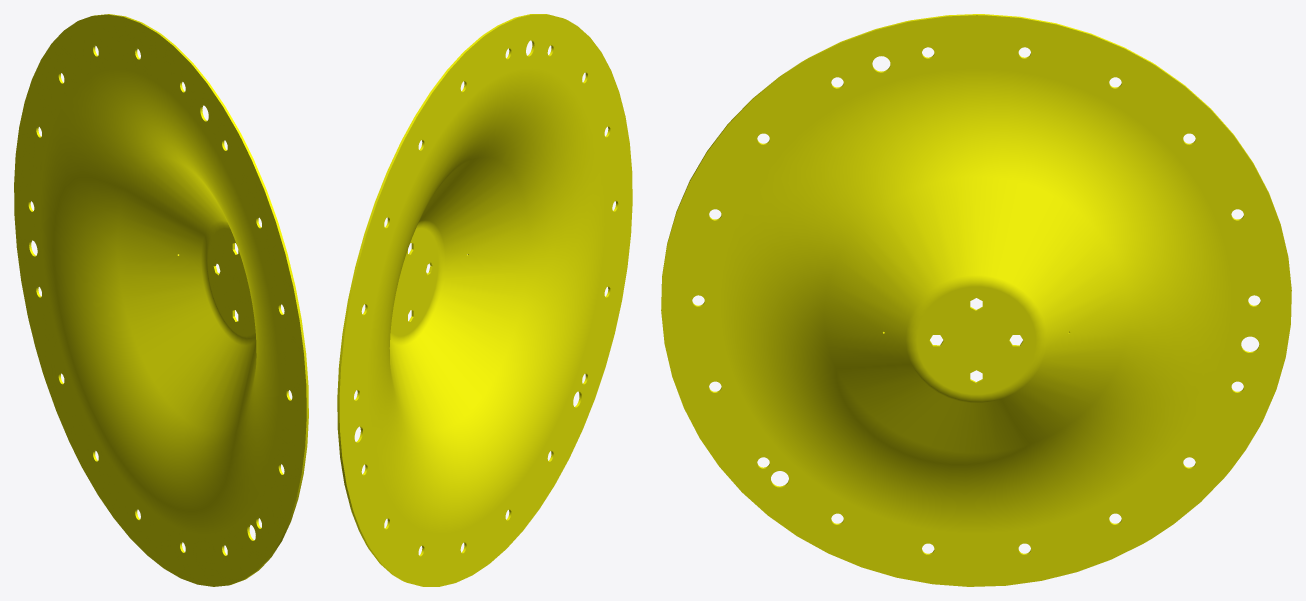
3 views of the same model, side by side, from view 1: azimuth 30°, elevation 25°; view 2: azimuth 150°, elevation 25°; view 3: azimuth 270°, elevation 25° (orthographic). The views are drawn at different scales.
Parts seen in each view (by area): view 1: MW35018A; view 2: MW35018A; view 3: MW35018A.
Part boxes in pixels (x1,y1,x2,y2): MW35018A: [14, 14, 308, 586]; MW35018A: [337, 14, 632, 586]; MW35018A: [661, 14, 1291, 586].
Size of the model in its own units: 0.0845 by 0.5539 by 0.5537.
